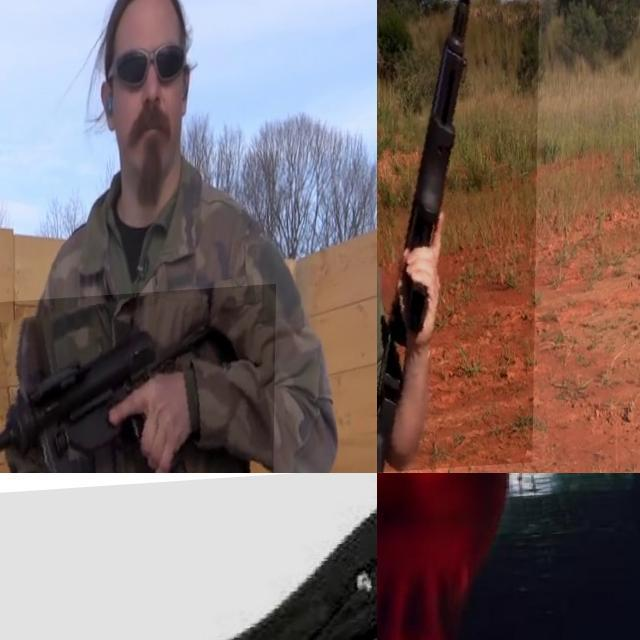-: (0, 473, 377, 640), (388, 473, 468, 543)
gun-knife-thesis - v11 Yolov5 augmented: (377, 0, 540, 473), (0, 290, 277, 473)
